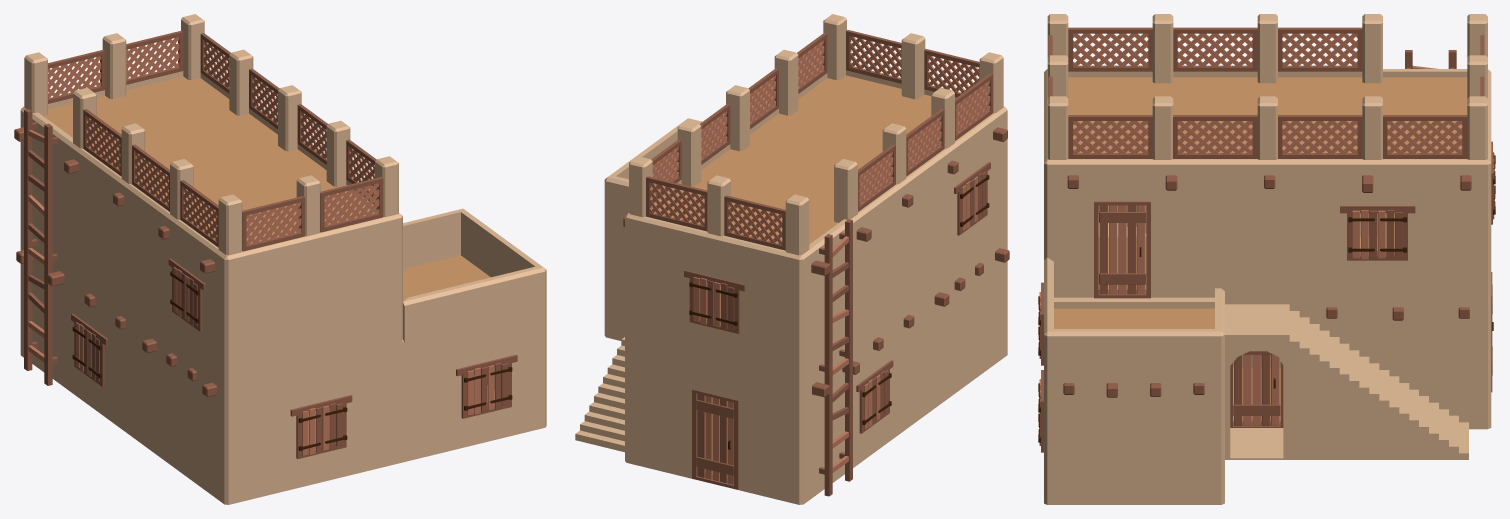
File: Large Building C.fbx
3 renders of one model, left to right at view 1: azimuth 30°, elevation 25°; view 2: azimuth 150°, elevation 25°; view 3: azimuth 270°, elevation 25°, orthographic. The views are drawn at different scales.
Visible parts, largest first — view 1: Large Building C; view 2: Large Building C; view 3: Large Building C.
Boxes of the visible parts, <box> form: Large Building C: <box>14,14,546,504</box>; Large Building C: <box>575,14,1009,504</box>; Large Building C: <box>1038,14,1495,504</box>.
Bounding box in the file's own units: 953 × 789 × 1011.
